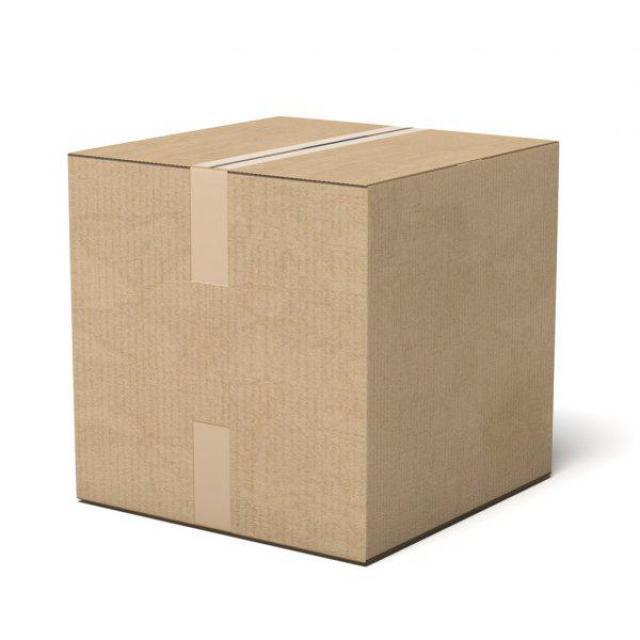box: (58, 101, 563, 574)
